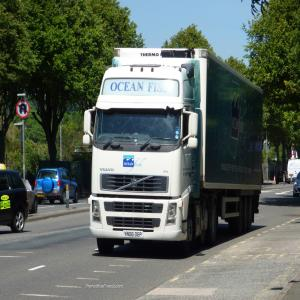Vehicle-registration-plate: (124, 230, 144, 237)
